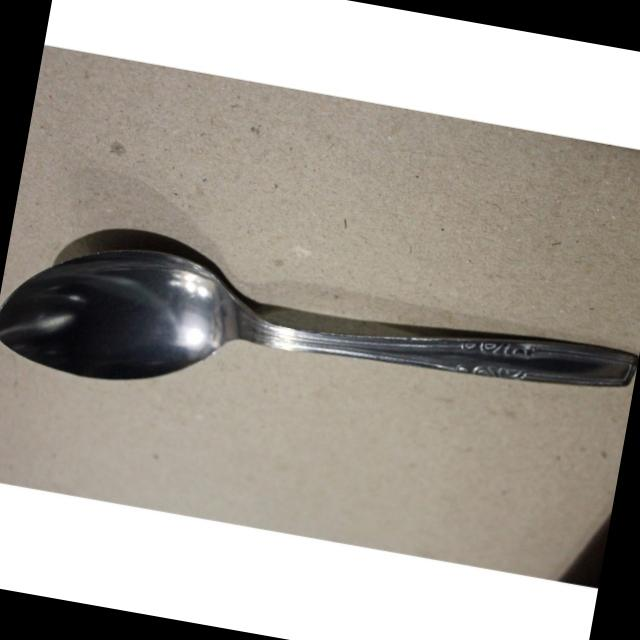spoon: (0, 215, 640, 482)
